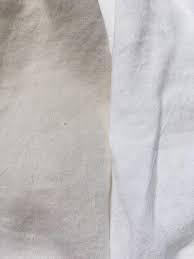oil: (5, 187, 72, 251)
